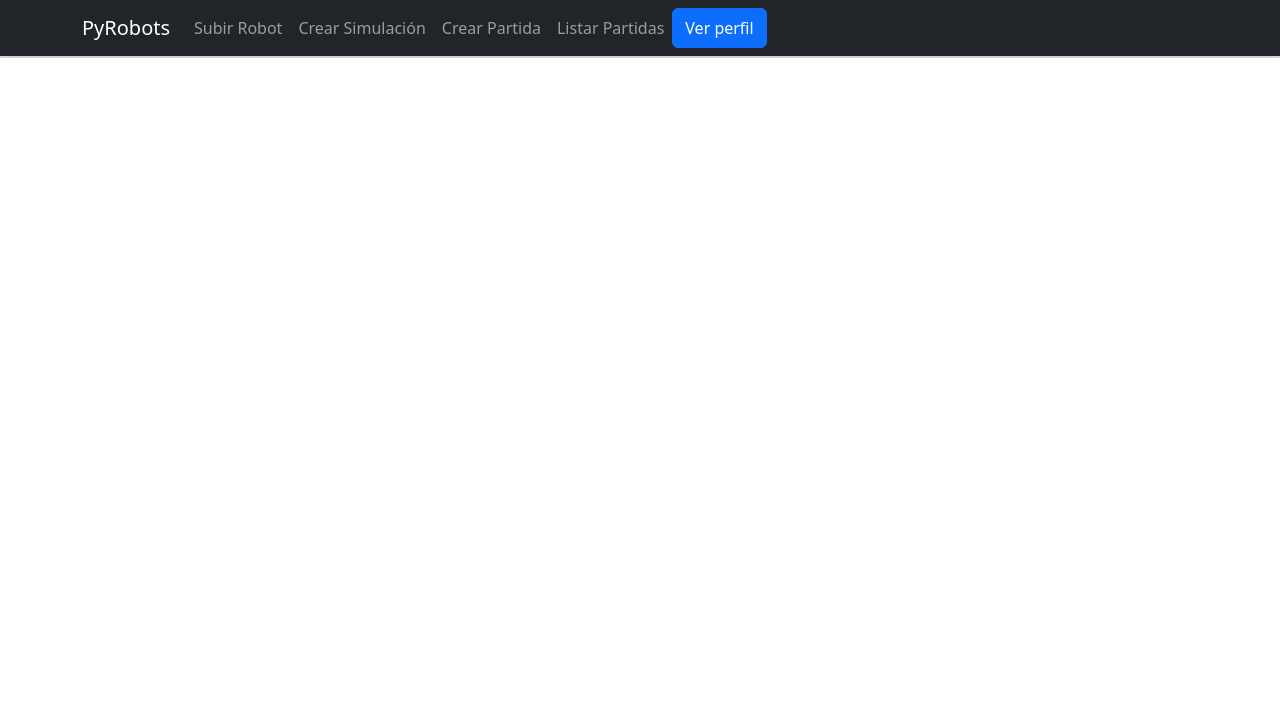
Test: Tests componente NavBar_2 › Verificar que se muestre el perfil
What coordinates should you click on to do the following:
click the button "Ver perfil"
I would click on:
 (719, 28)
Its box is [672,8,767,48].
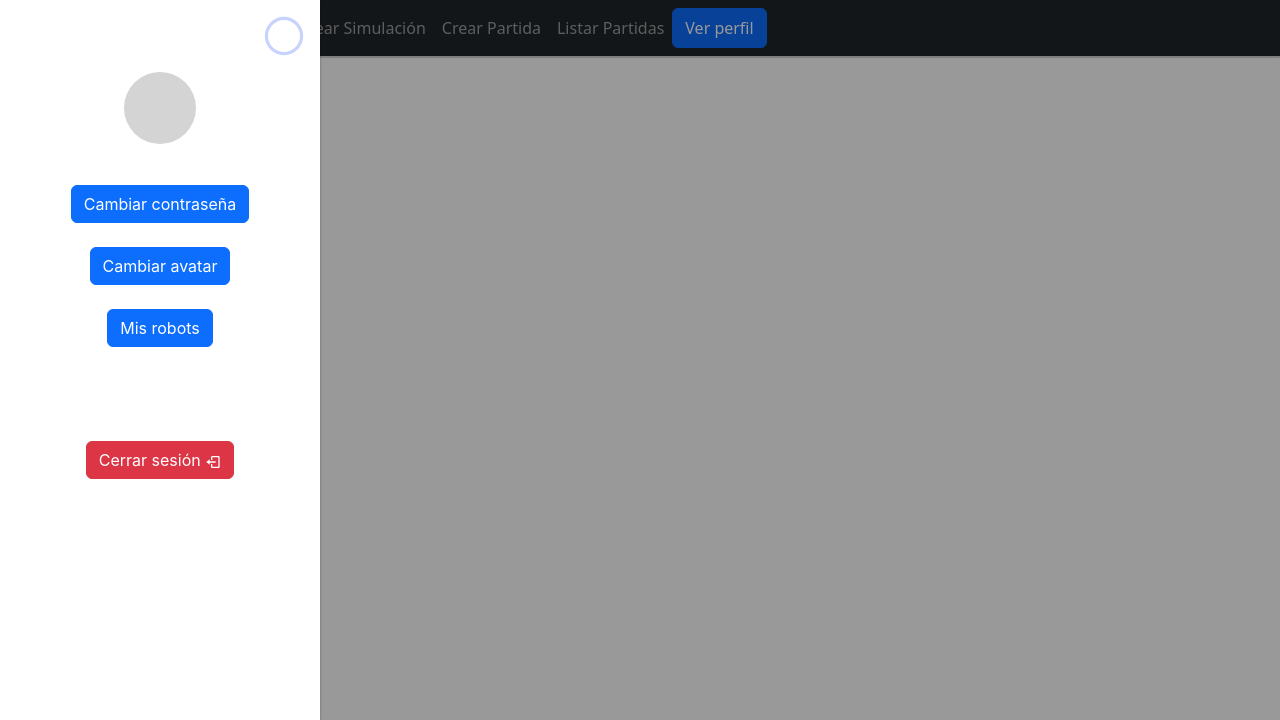
expect the button "Cambiar avatar" is shown: met, box [90,247,230,285]
expect the button "Cambiar contraseña" is shown: met, box [71,185,249,223]
expect the button "Cerrar sesión" is shown: met, box [86,441,234,479]
